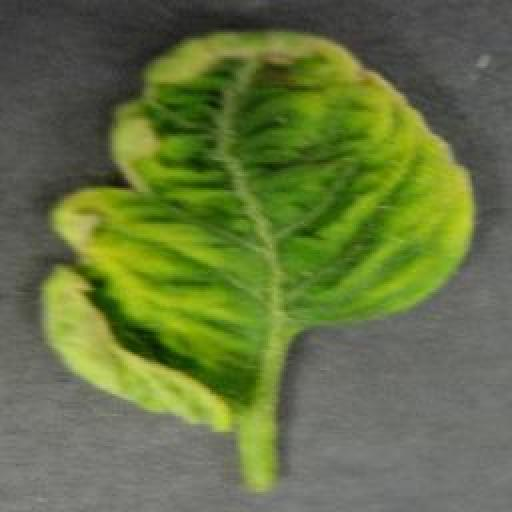Yellow Leaf Curl Virus: (38, 27, 474, 436)
